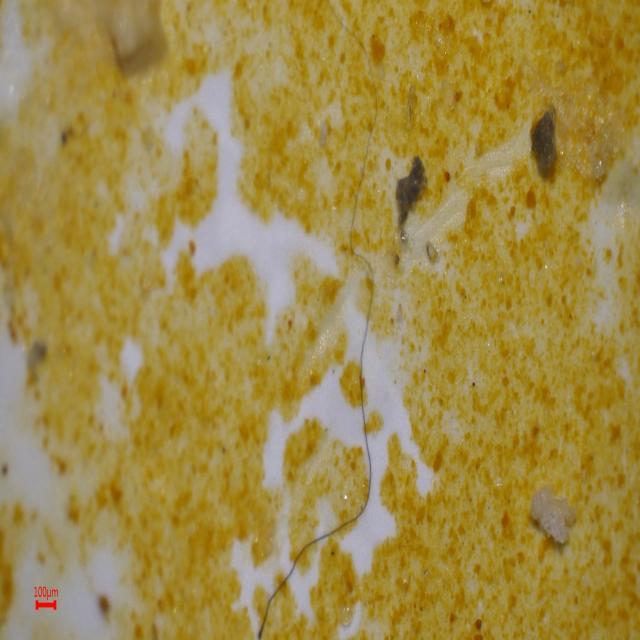fibers: (257, 1, 398, 640)
